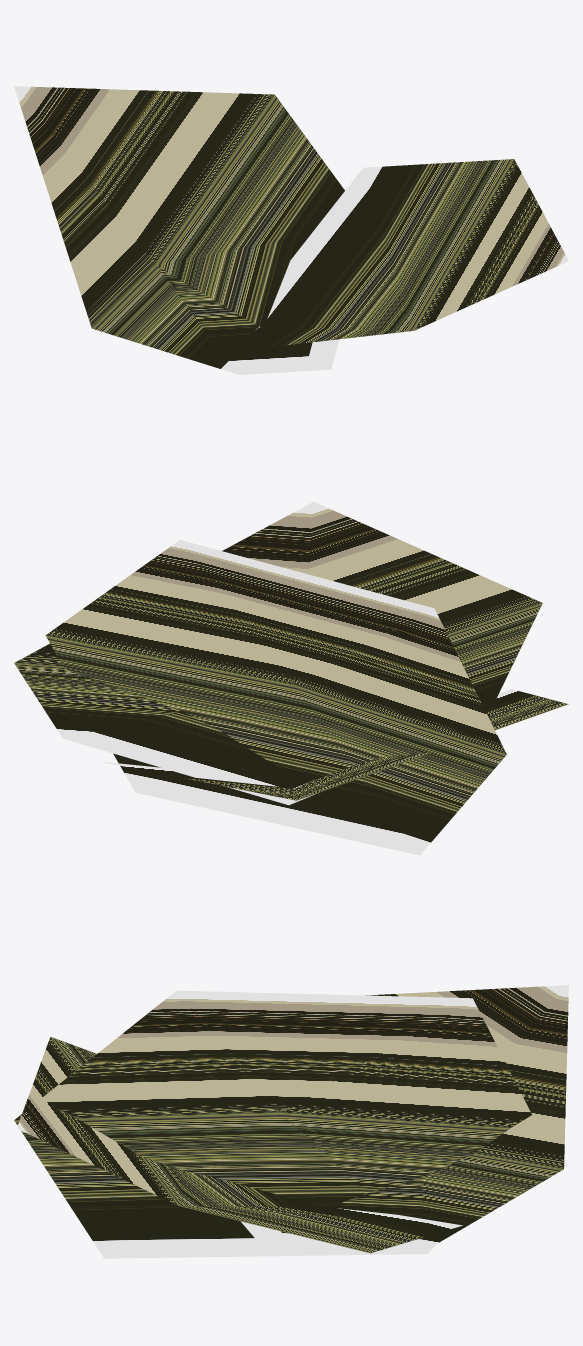
The model's file is SM_FOL_Grass_Clump_03_A.glb.
3 views of the same model, one above another, from view 1: azimuth 30°, elevation 25°; view 2: azimuth 150°, elevation 25°; view 3: azimuth 270°, elevation 25° (orthographic). The views are drawn at different scales.
Visible parts, largest first — view 1: SM_FOL_Grass_Clump_03_A; view 2: SM_FOL_Grass_Clump_03_A; view 3: SM_FOL_Grass_Clump_03_A.
Boxes of the visible parts, box(x1,y1,x2,y2) form: SM_FOL_Grass_Clump_03_A: box(14, 86, 568, 374); SM_FOL_Grass_Clump_03_A: box(14, 501, 568, 855); SM_FOL_Grass_Clump_03_A: box(14, 985, 568, 1258).
Bounding box in the file's own units: 1.1 × 0.6231 × 1.11.
Materials: 1 (1 with a texture image).
